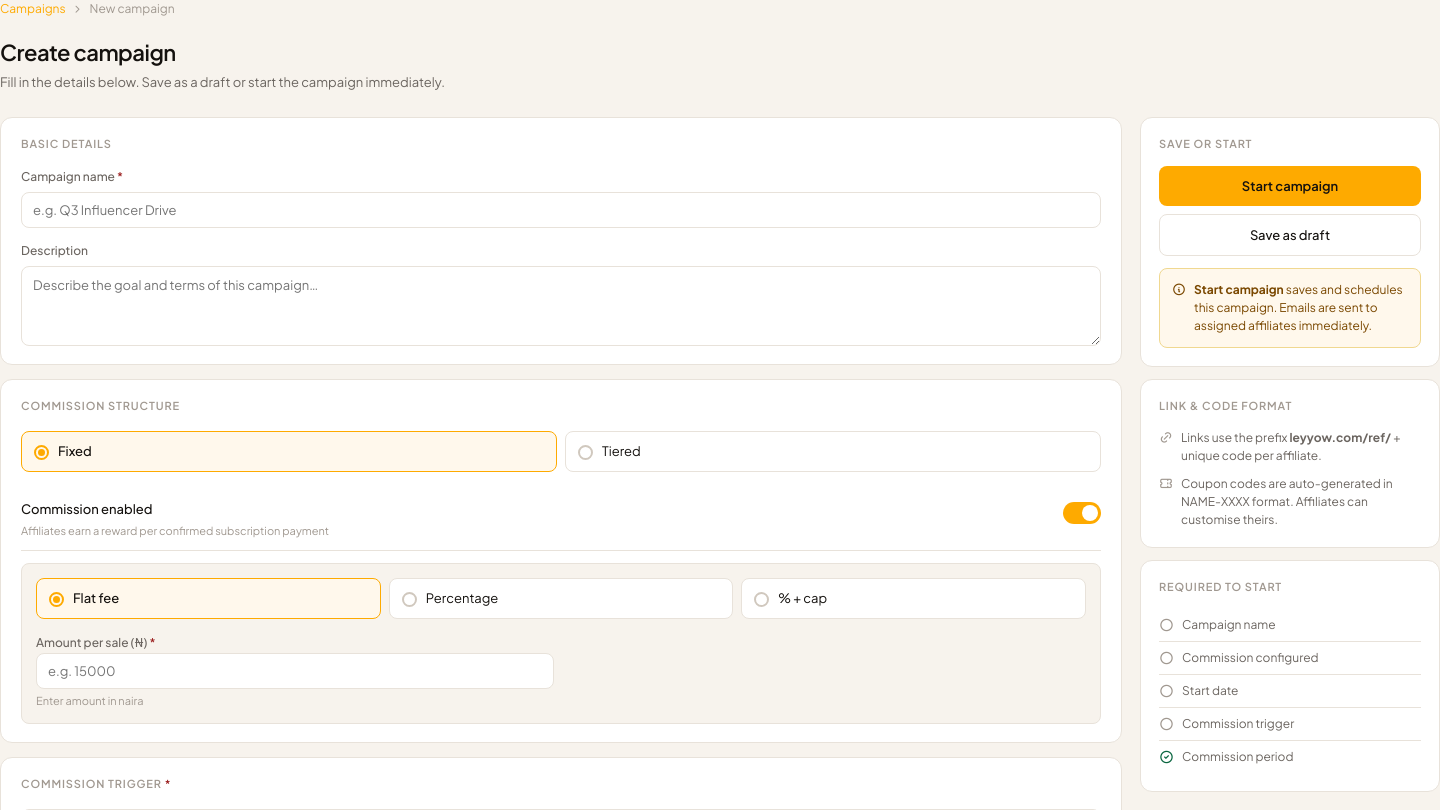
tiered — tier builder › tier table header shows Percentage when percentage is selected
The image size is (1440, 810).
Click the element with class "radio-opt" showing "Tiered": coordinates (833, 451) left=565, top=430, right=1101, bottom=472
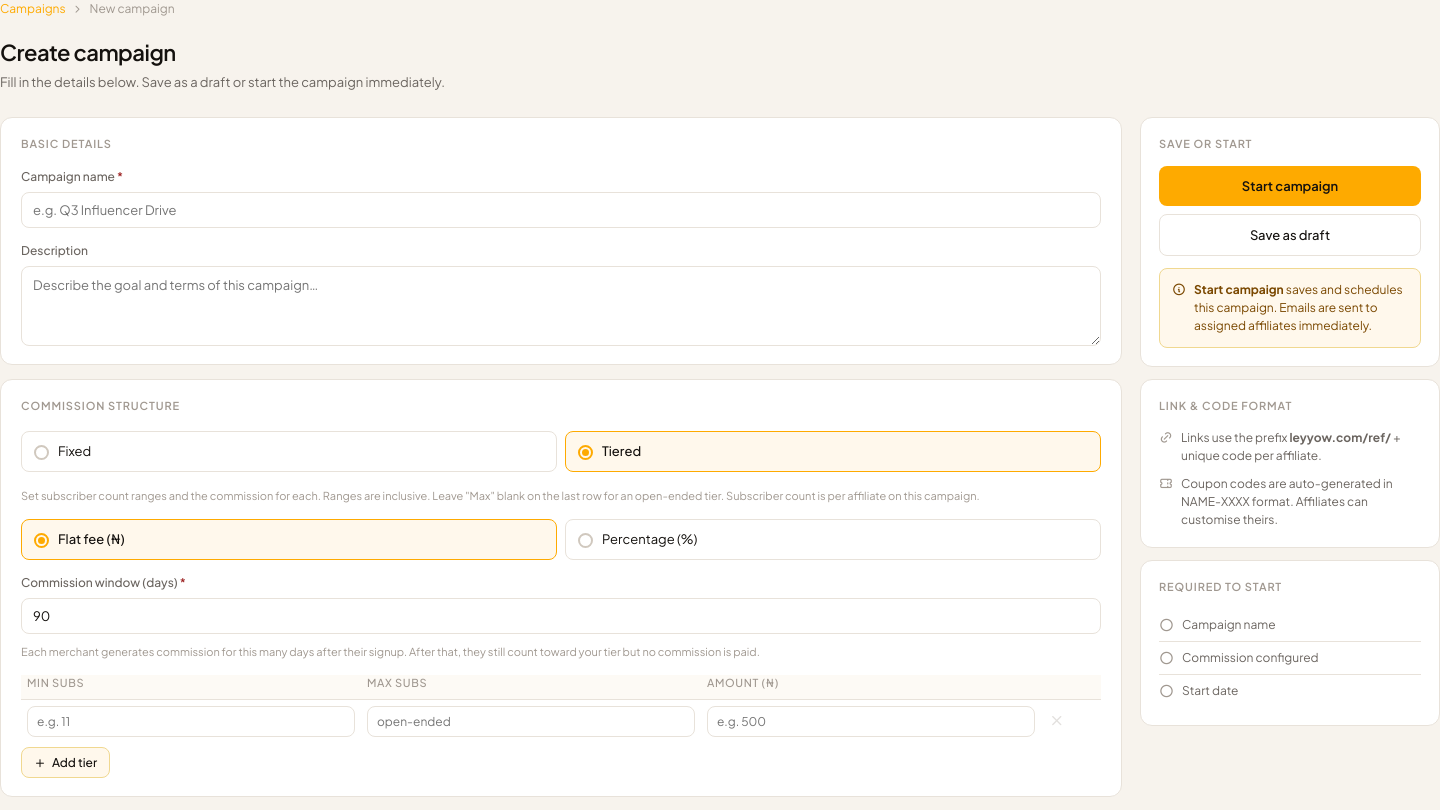
Click the element with class "radio-opt" showing "Percentage (%)": coordinates (833, 539) left=565, top=518, right=1101, bottom=560
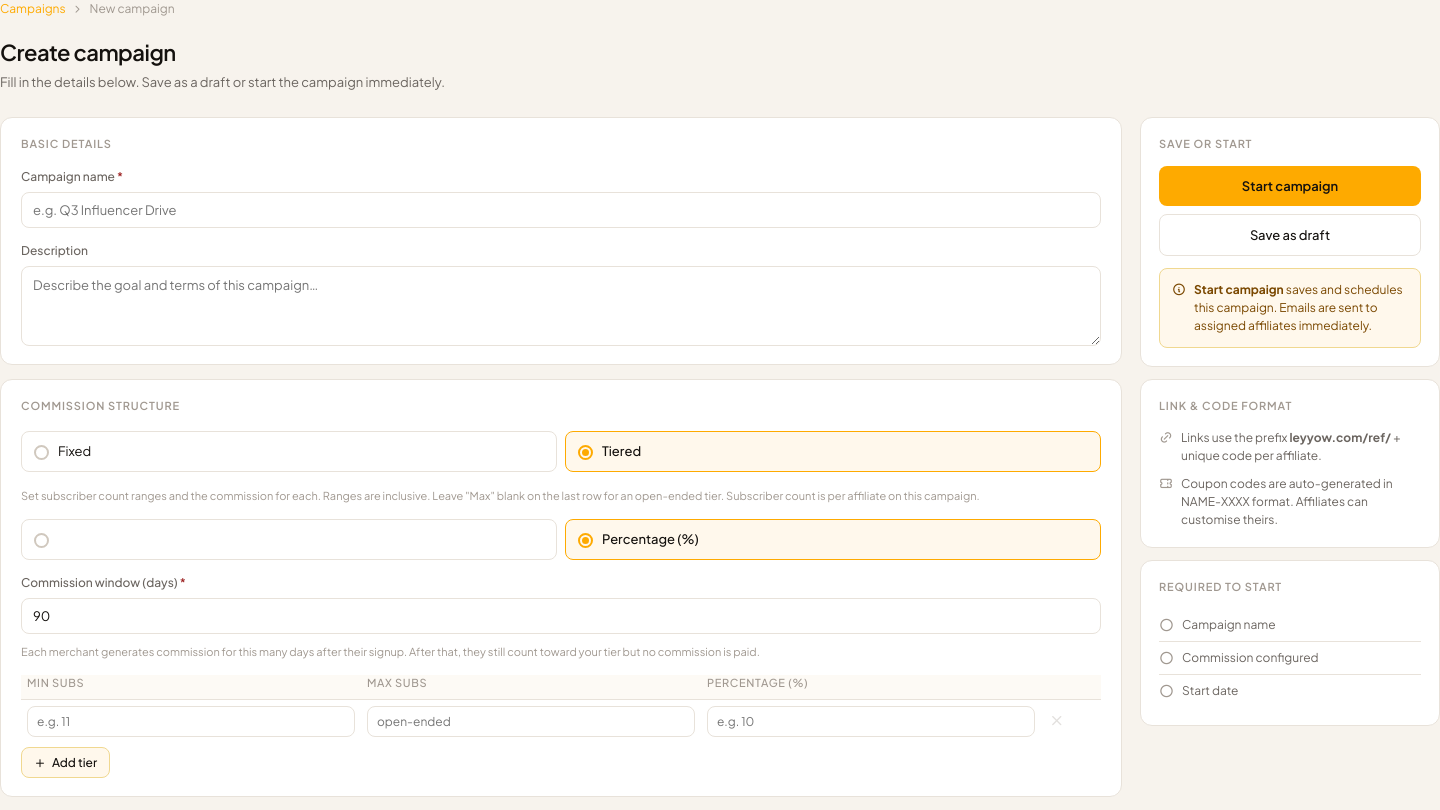
Expected: the column heading "Percentage (%)" is shown, left=701, top=674, right=1041, bottom=700
